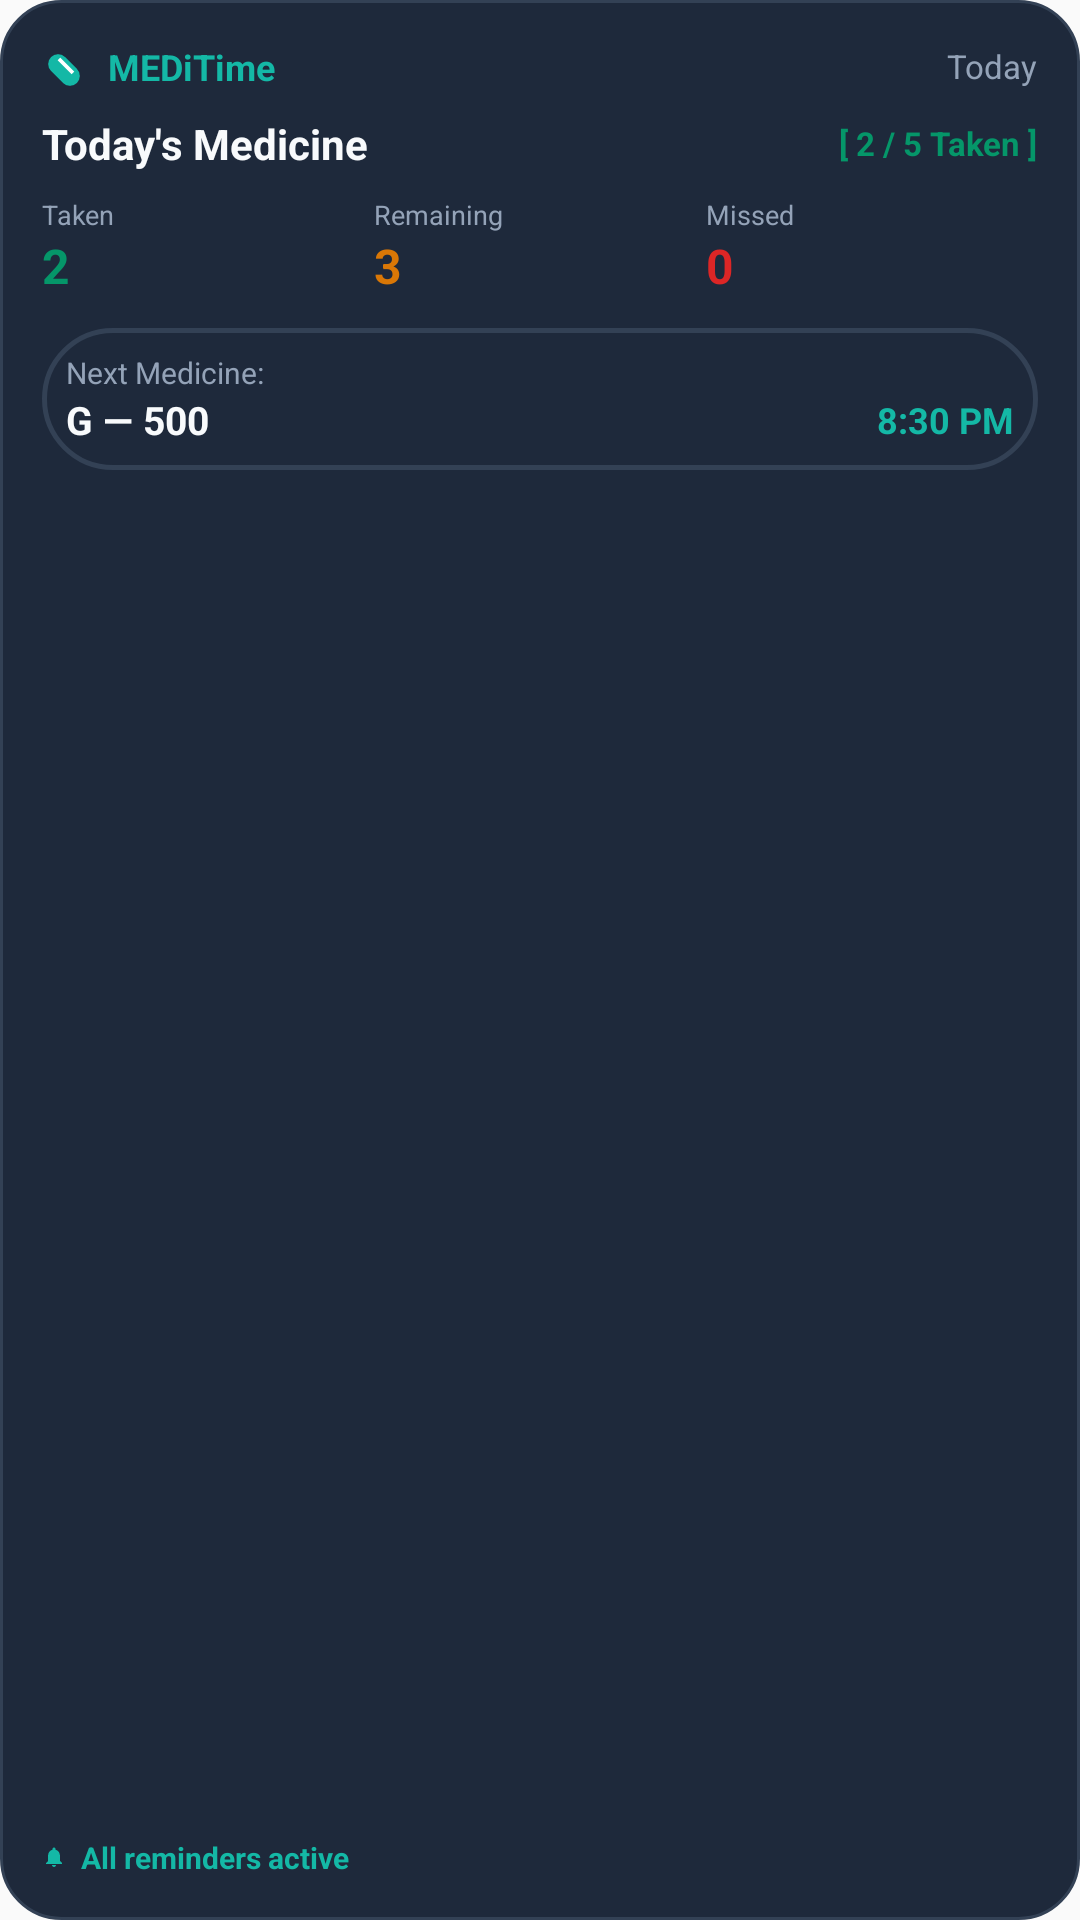

Locate icon controls on the screen. Image size 1080 x 1920, boxes as (left=x1, top=y1, right=x2, bottom=y2).
med pill: (left=48, top=54, right=80, bottom=86)
